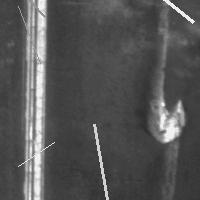scratches: (18, 1, 50, 200), (154, 1, 179, 176), (142, 86, 186, 143), (13, 1, 45, 68), (89, 119, 113, 200), (13, 137, 59, 171), (152, 0, 198, 27), (0, 0, 50, 22), (178, 195, 200, 200)
